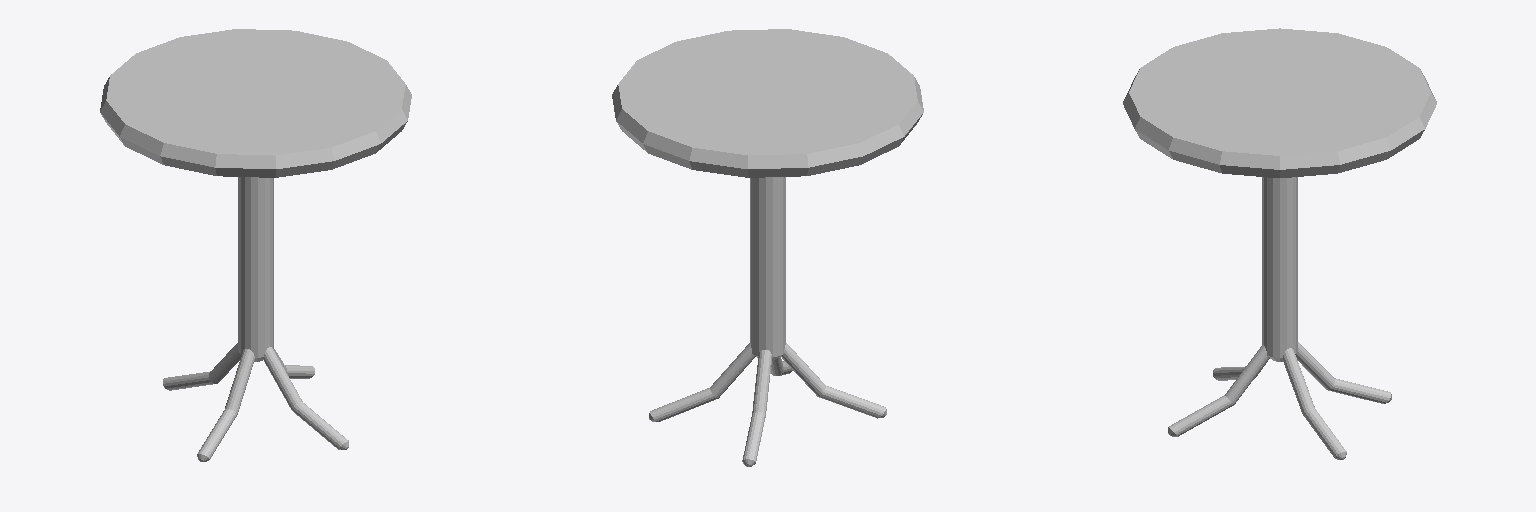
Rendered from Chair_Round.obj.
3 renders of one model, left to right at view 1: azimuth 30°, elevation 25°; view 2: azimuth 150°, elevation 25°; view 3: azimuth 270°, elevation 25°, orthographic.
Parts seen in each view (by area): view 1: Round_Chair_Circle; view 2: Round_Chair_Circle; view 3: Round_Chair_Circle.
Part boxes in pixels (left/top/right/bottom): Round_Chair_Circle: left=100, top=29, right=411, bottom=461; Round_Chair_Circle: left=612, top=29, right=923, bottom=466; Round_Chair_Circle: left=1123, top=28, right=1436, bottom=459.
Bounding box in the file's own units: 7.57 × 8.69 × 7.57.